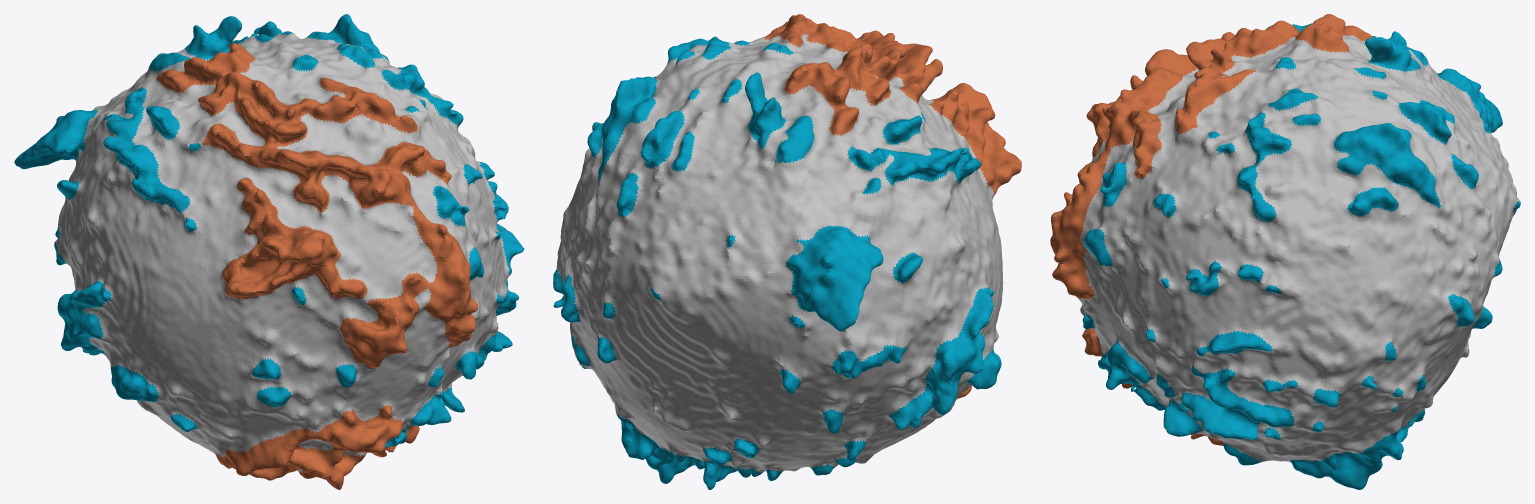
3 renders of one model, left to right at view 1: azimuth 30°, elevation 25°; view 2: azimuth 150°, elevation 25°; view 3: azimuth 270°, elevation 25°, orthographic. The views are drawn at different scales.
Size of the model in its own units: 153 by 153 by 160.
